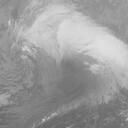cyclone: (40, 35, 95, 89)
